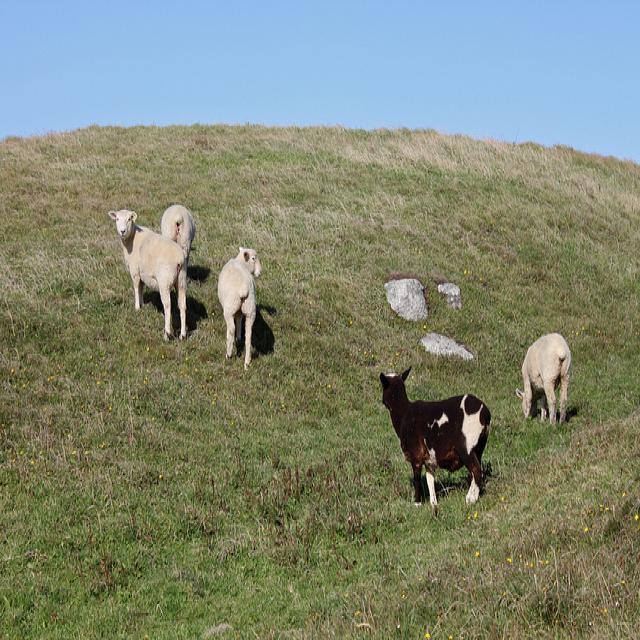cow: (379, 364, 491, 505)
